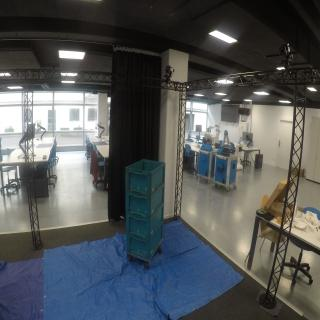BoxB4: (127, 205, 166, 239), (126, 160, 166, 193), (128, 227, 165, 260), (126, 191, 166, 218)
